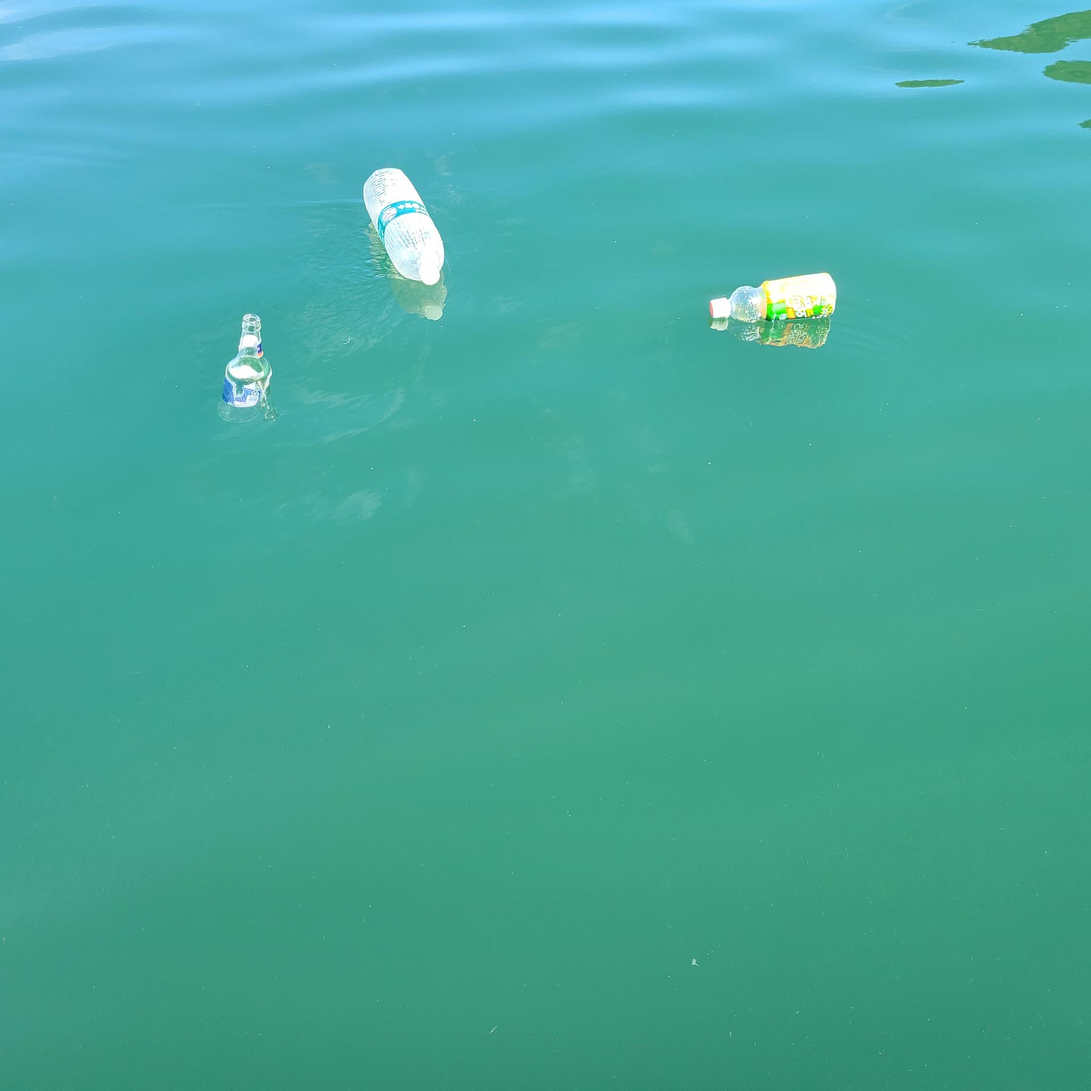sampah_terapung: (363, 168, 445, 286), (710, 273, 837, 323), (223, 314, 273, 408)
